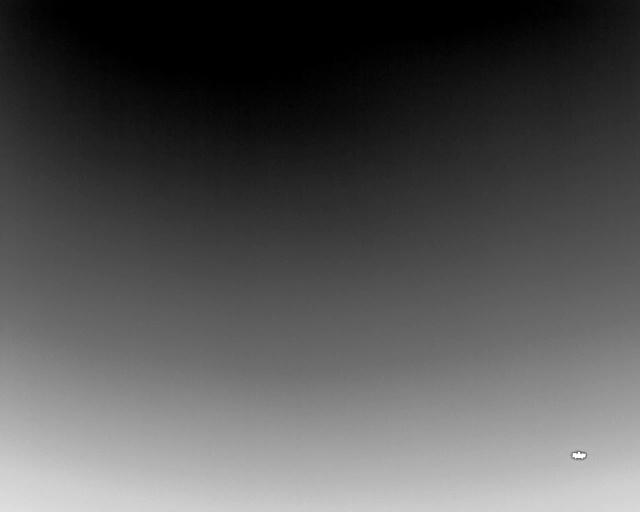fpv-drone: (571, 451, 586, 460)
